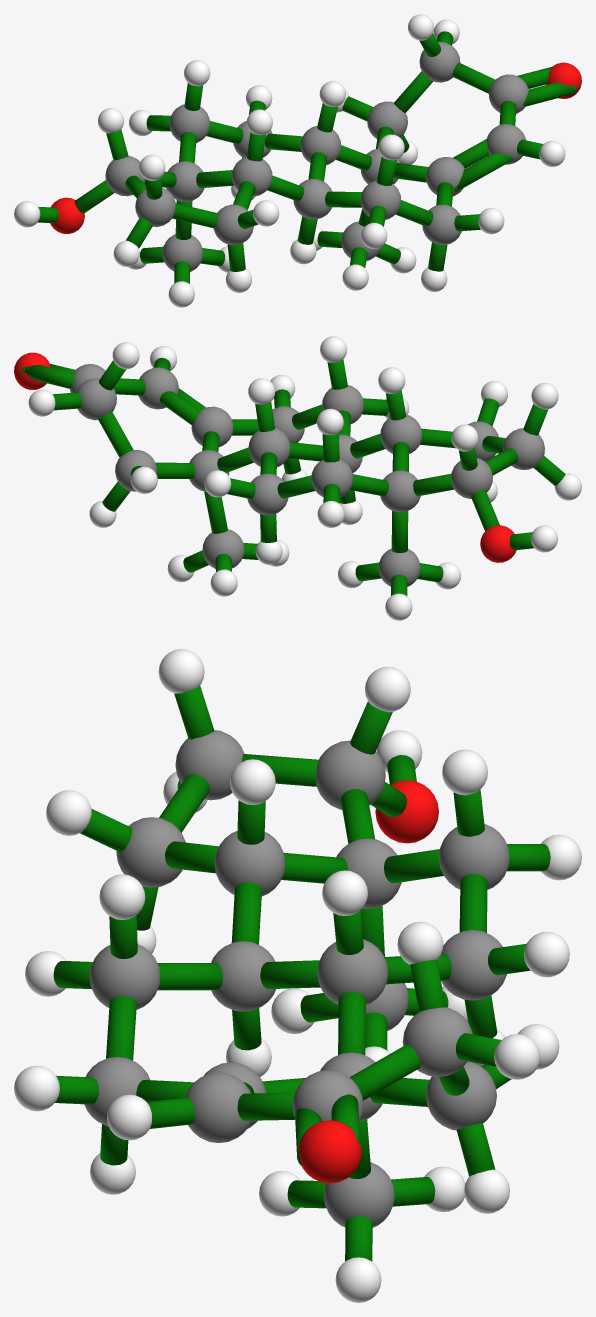
The model's file is steroids.gltf.
3 views of the same model, one above another, from view 1: azimuth 30°, elevation 25°; view 2: azimuth 150°, elevation 25°; view 3: azimuth 270°, elevation 25° (orthographic). The views are drawn at different scales.
Size of the model in its own units: 116 by 47.97 by 60.61.
